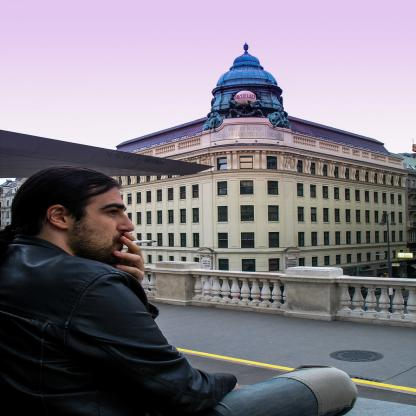smoking: (125, 240, 157, 244)
